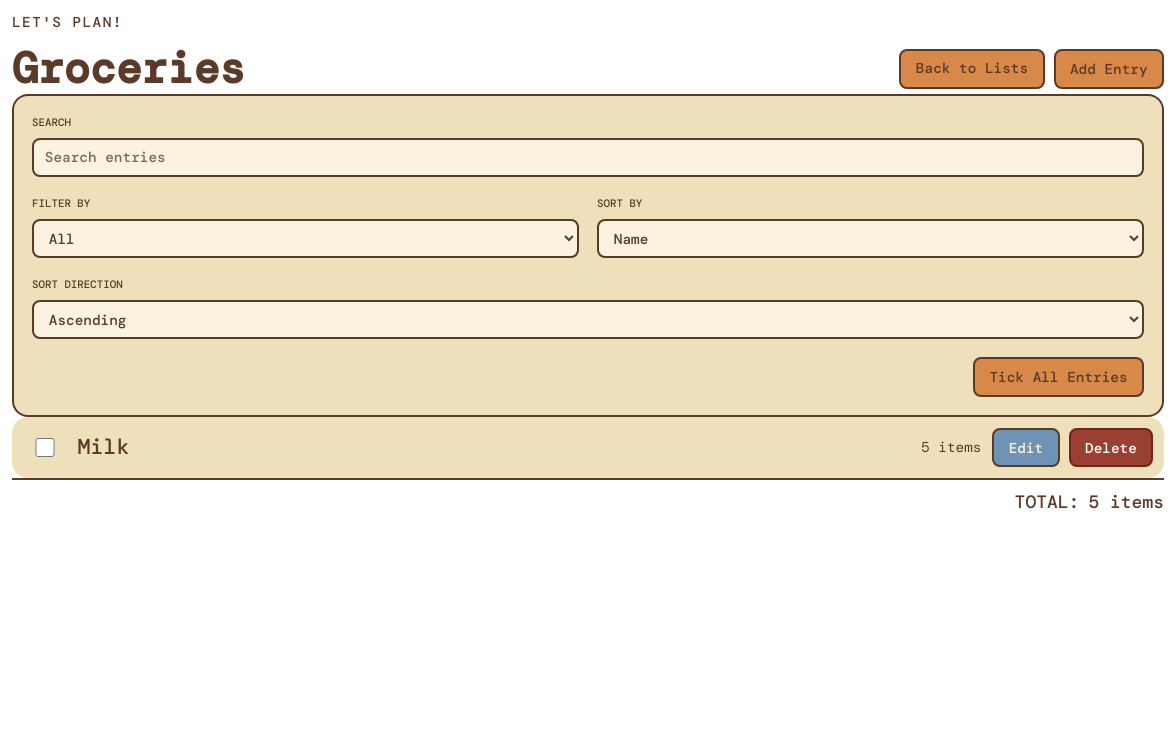
Test: ListPage › shows not found when an item action loses list access
What coordinates should you click on to do the following:
click the checkbox named "Mark Milk as completed"
I would click on:
 (45, 448)
Its box is [35,438,55,457].
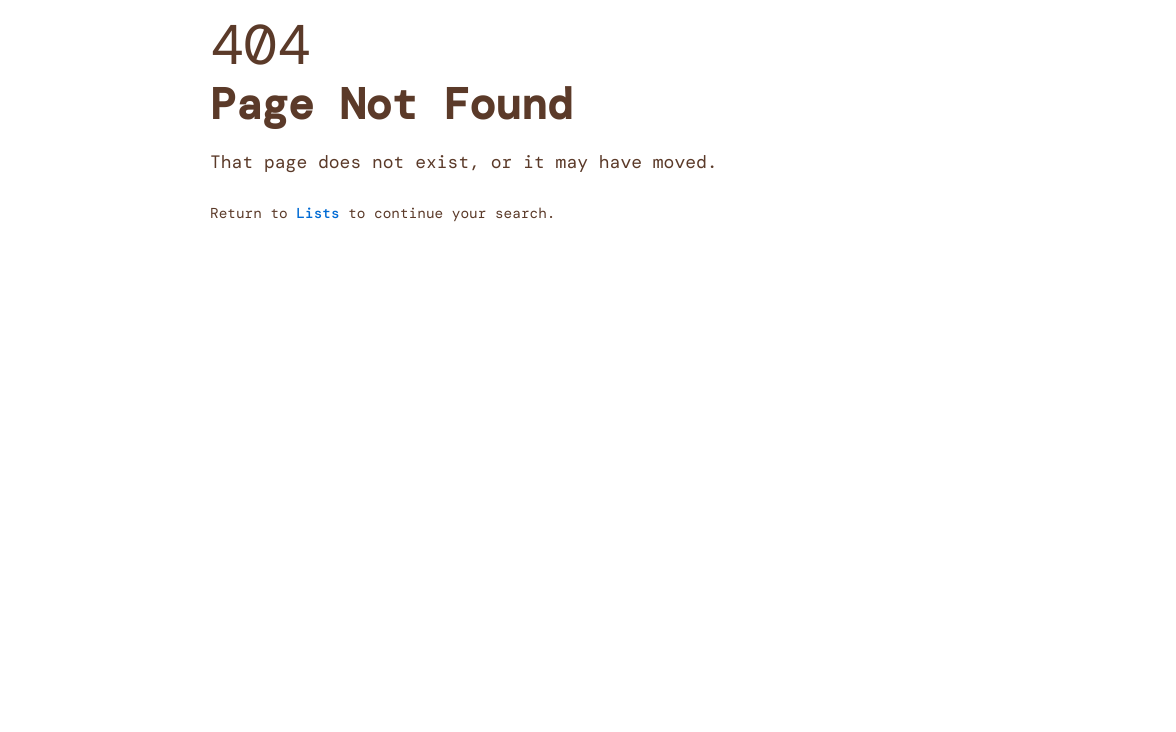
Expected: the heading "Page Not Found" is shown, [210,76,573,132]
